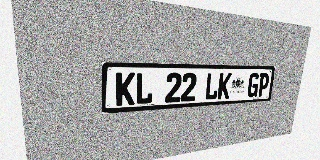2: (165, 73, 182, 103), (181, 73, 197, 102)
G: (247, 73, 260, 97)
K: (116, 72, 135, 106), (217, 73, 232, 99)
L: (135, 72, 153, 105), (204, 73, 220, 100)
P: (257, 73, 270, 97)
